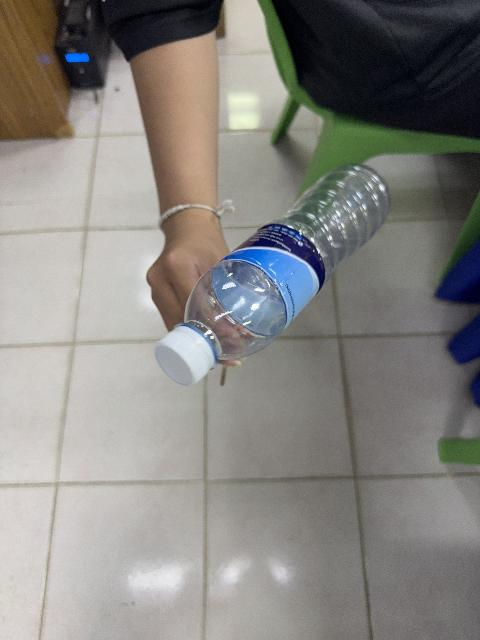bottle: (156, 166, 389, 385)
